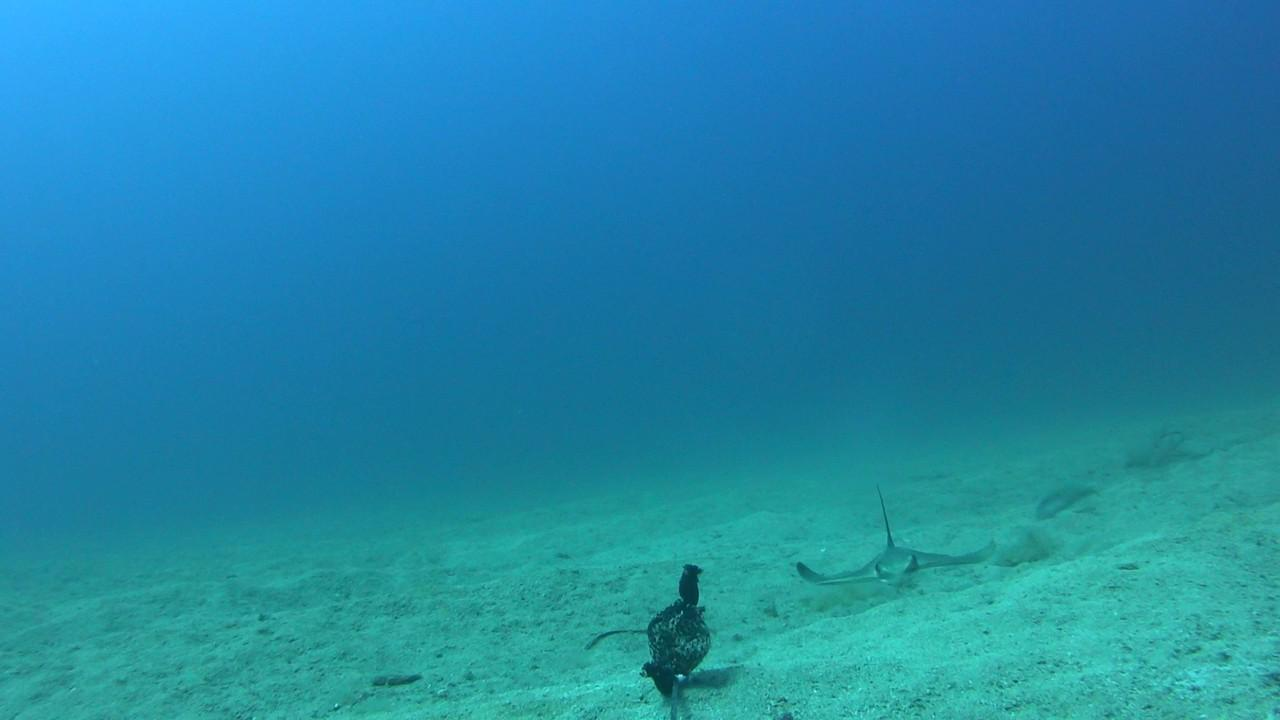myliobatis: (792, 476, 999, 595)
raor: (1040, 478, 1104, 524)
